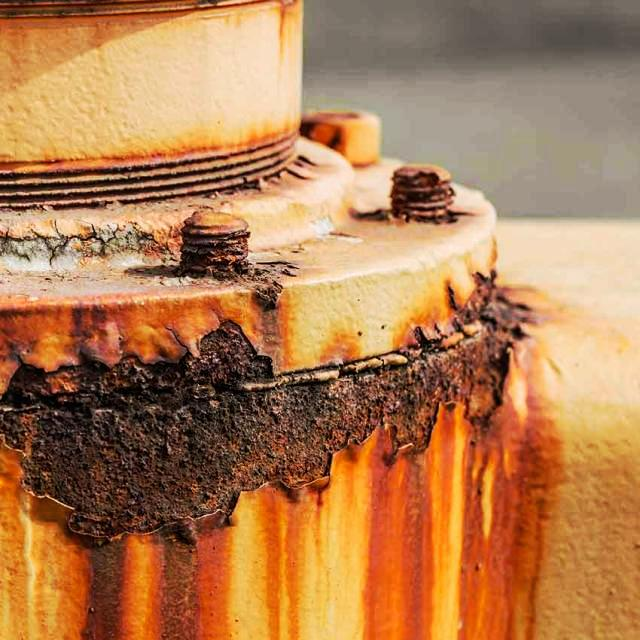Corrosion: (0, 236, 570, 575), (0, 109, 325, 283), (179, 209, 296, 310), (352, 159, 467, 224), (0, 0, 297, 18), (302, 110, 382, 165)
